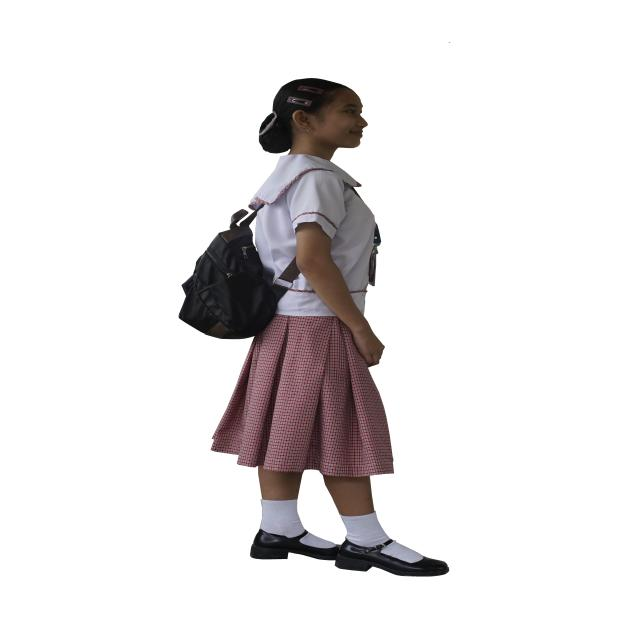pologirl: (248, 155, 375, 312), (278, 275, 334, 316)
shoes: (250, 529, 449, 577)
skirt: (212, 315, 393, 477)
